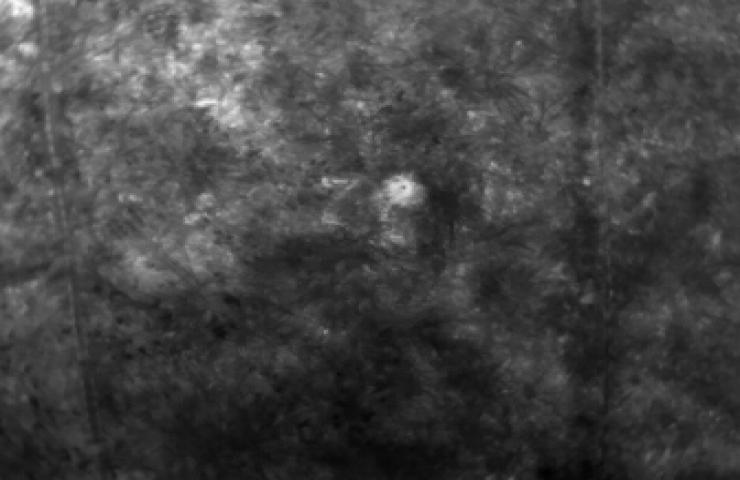landmines: (384, 173, 423, 204)
